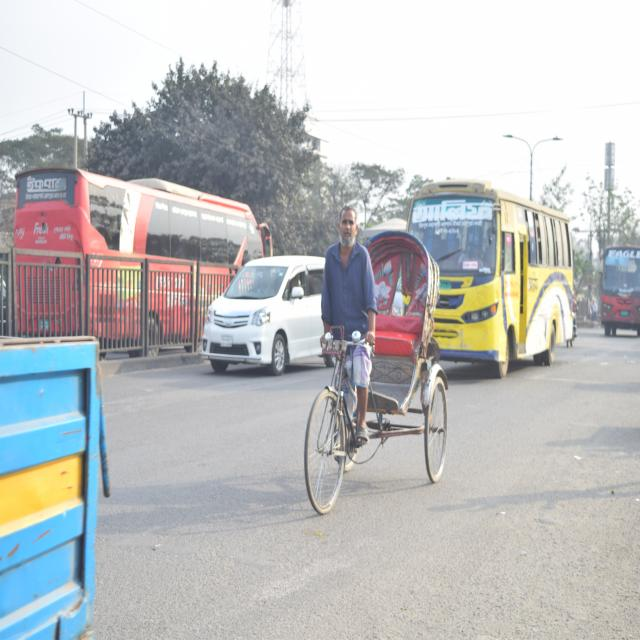bus: (13, 172, 268, 347), (407, 177, 579, 371), (594, 244, 640, 339)
car: (206, 250, 334, 379)
